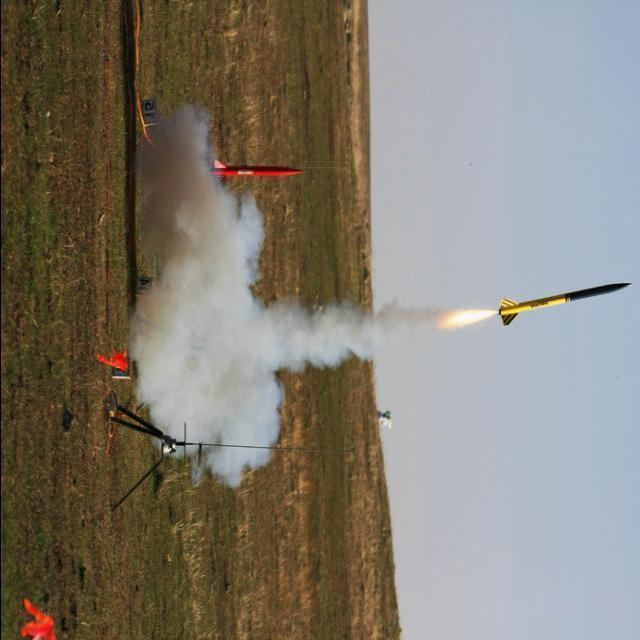missile: (498, 282, 632, 328)
